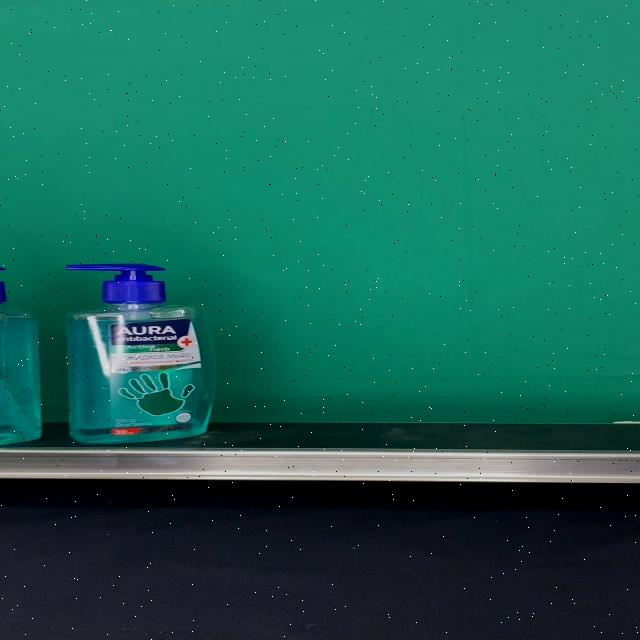Bottle: (63, 263, 216, 444)
Cap: (72, 264, 169, 306)
